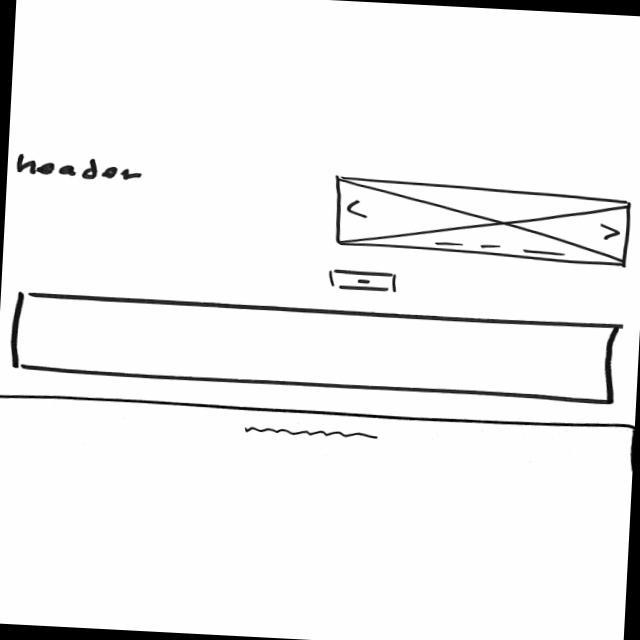container: (10, 291, 623, 408)
icon-button: (328, 269, 404, 298)
image: (333, 174, 634, 269)
label: (11, 151, 145, 186)
text: (243, 425, 385, 445)
